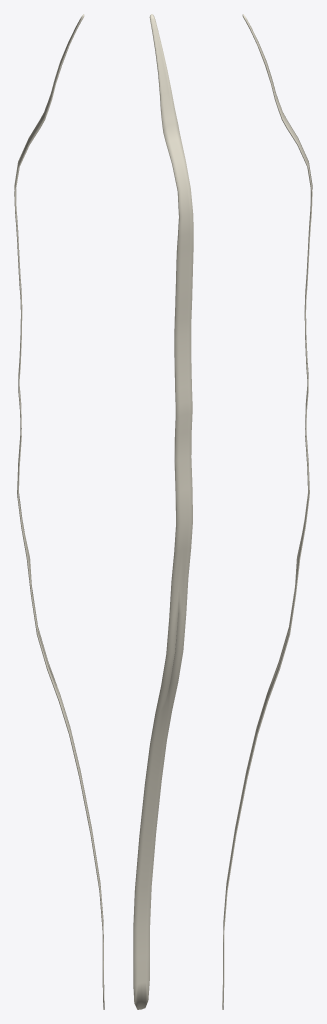
3 views of the same model, side by side, from view 1: azimuth 90°, elevation 25°; view 2: azimuth 210°, elevation 25°; view 3: azimuth 270°, elevation 25° (orthographic).
Parts seen in each view (by area): view 1: ZA_4f6e3b057d4b5e06; view 2: ZA_4f6e3b057d4b5e06; view 3: ZA_4f6e3b057d4b5e06.
Boxes of the visible parts, bbox=[...] form: ZA_4f6e3b057d4b5e06: bbox=[14, 14, 104, 1009]; ZA_4f6e3b057d4b5e06: bbox=[133, 14, 193, 1009]; ZA_4f6e3b057d4b5e06: bbox=[222, 14, 312, 1009].
Size of the model in its own units: 0.00772 by 0.4456 by 0.0367.
